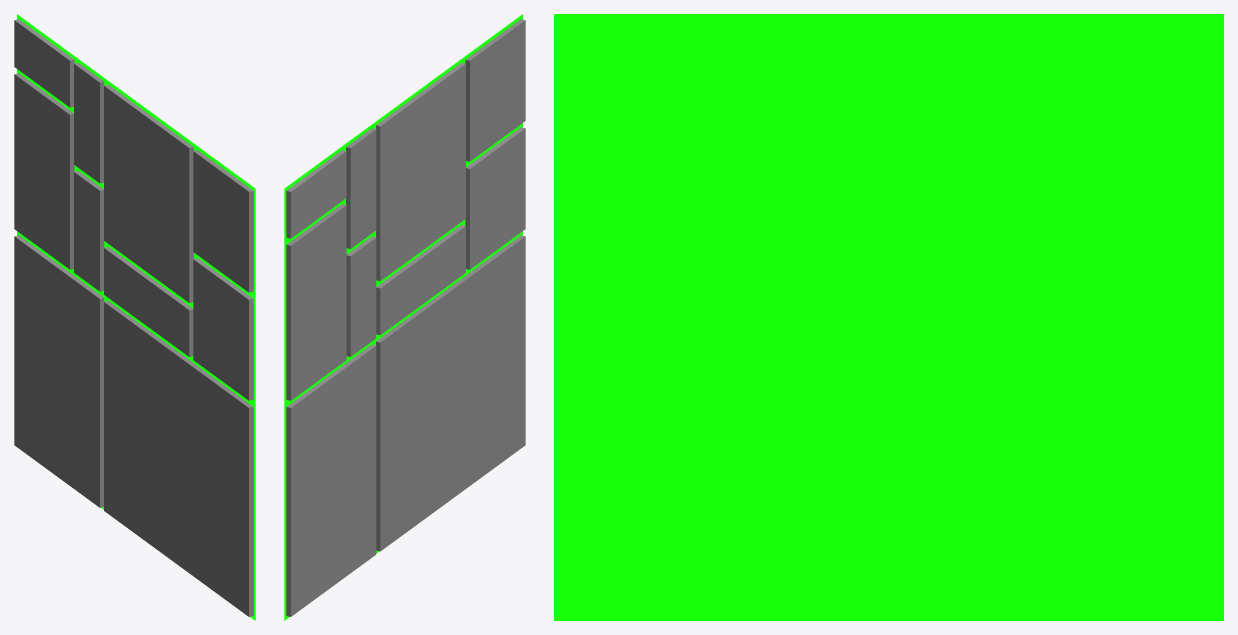
File: Wall_15.FBX
The picture shows the model from 3 angles, left to right: view 1: azimuth 30°, elevation 25°; view 2: azimuth 150°, elevation 25°; view 3: azimuth 270°, elevation 25°; orthographic projection. The views are drawn at different scales.
Parts seen in each view (by area): view 1: Wall_15_LOD0; view 2: Wall_15_LOD0; view 3: Wall_15_LOD0.
Part boxes in pixels (x1,y1,x2,y2): Wall_15_LOD0: (14,14,255,620); Wall_15_LOD0: (284,14,525,620); Wall_15_LOD0: (554,14,1223,620).
Size of what is drawn, in the model's own units: 2 by 180 by 180.
